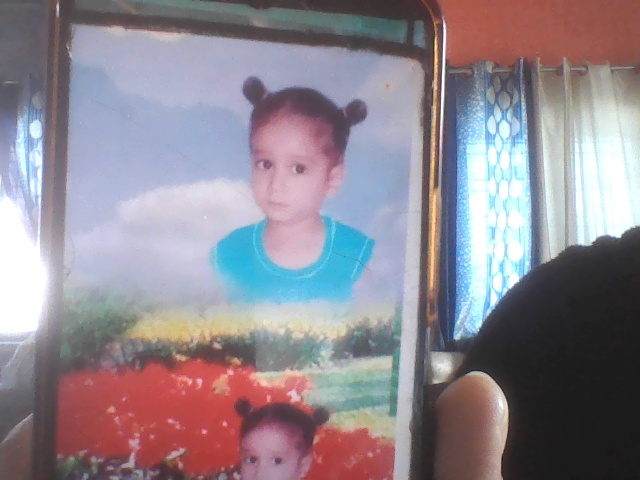fake: (240, 82, 351, 240)
